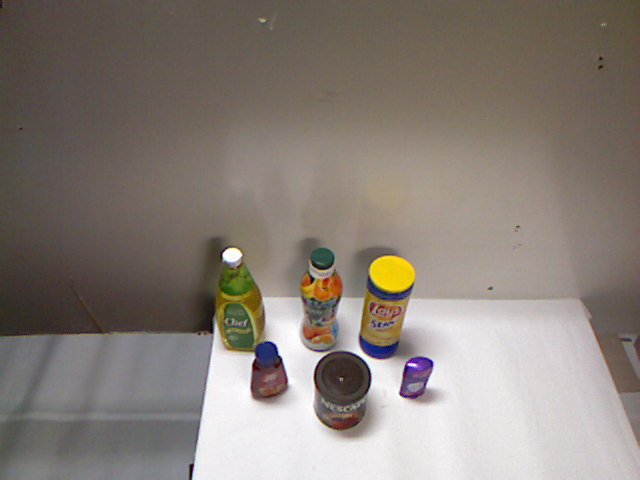aerosol: (208, 219, 258, 317)
cafe: (378, 266, 441, 345)
jugoind: (299, 300, 334, 357)
lata: (232, 303, 278, 373)
leche: (257, 234, 320, 319)
yogurt: (328, 216, 379, 327)
